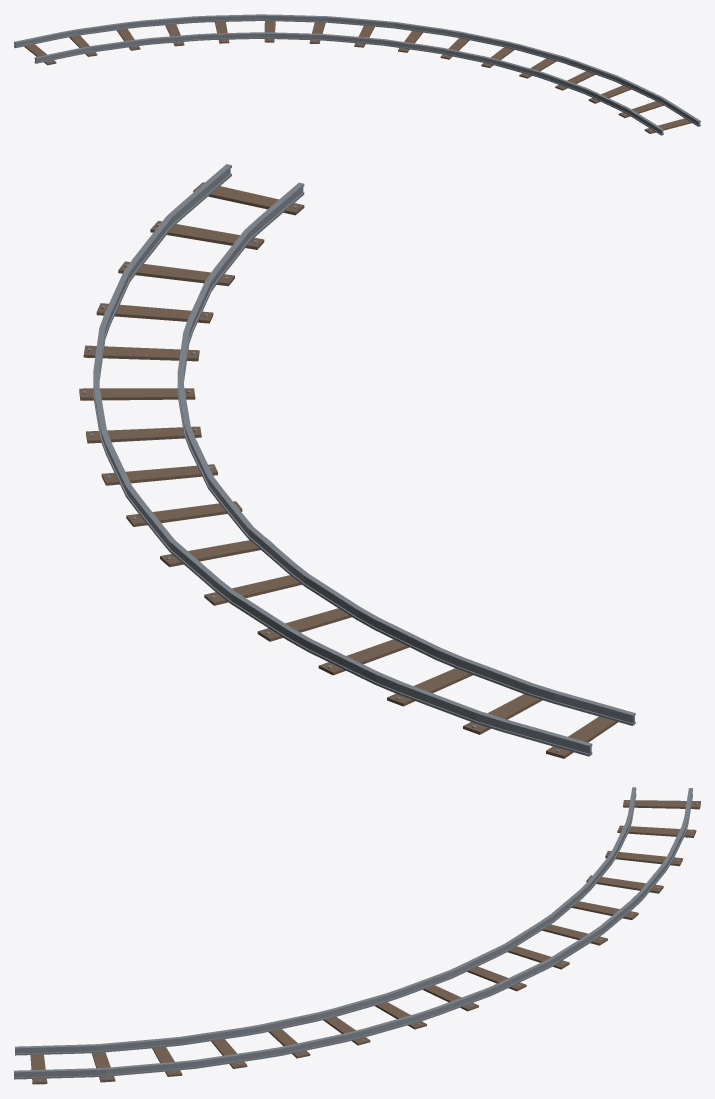
File: Track_TurnRight 1.fbx
The picture shows the model from 3 angles, top to bottom: view 1: azimuth 30°, elevation 25°; view 2: azimuth 150°, elevation 25°; view 3: azimuth 270°, elevation 25°; orthographic projection. The views are drawn at different scales.
Visible parts, largest first — view 1: TurnRight; view 2: TurnRight; view 3: TurnRight.
Boxes of the visible parts, x1,y1,x2,y2 form: TurnRight: [14, 14, 700, 135]; TurnRight: [79, 164, 635, 758]; TurnRight: [14, 787, 700, 1084].
Size of the model in its own units: 972 by 14.03 by 980.
